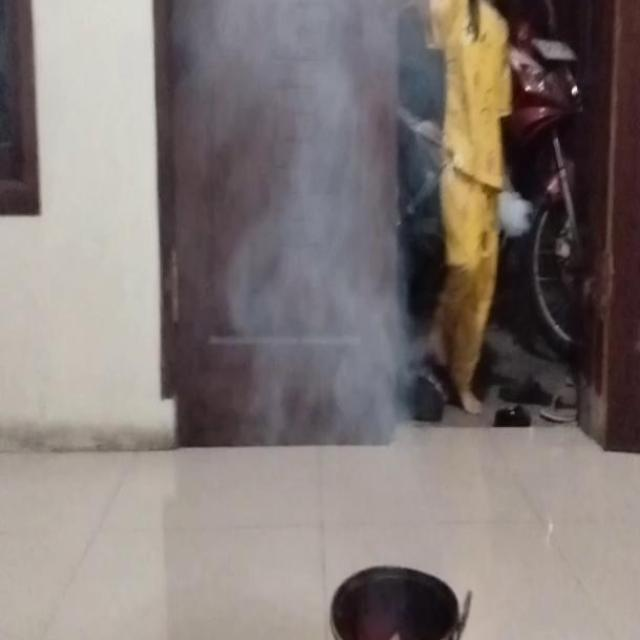fire: (196, 0, 422, 429)
